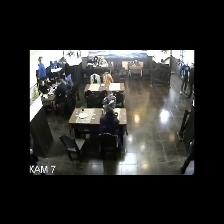person: (100, 107, 119, 134), (180, 63, 190, 94), (63, 60, 74, 86), (187, 64, 194, 98), (103, 91, 116, 108), (38, 57, 46, 79), (103, 73, 114, 84), (39, 81, 49, 93), (93, 56, 100, 65), (86, 61, 93, 68)
